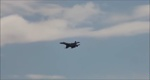maybay_muctieu: (58, 38, 83, 53)
